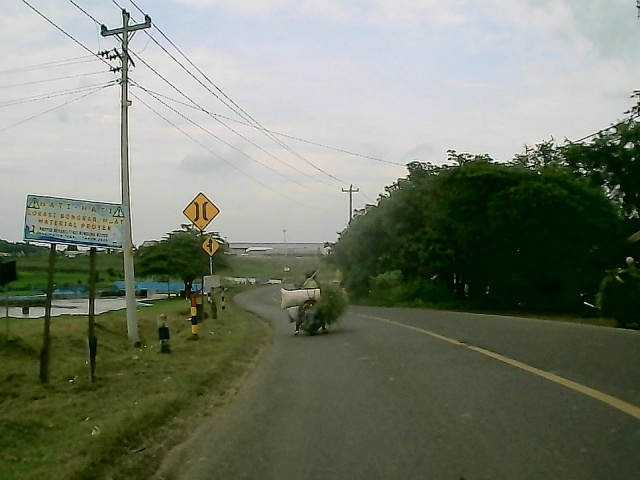Jembatan: (182, 191, 224, 233)
Simpang kiri dengan prioritas: (198, 235, 221, 258)
